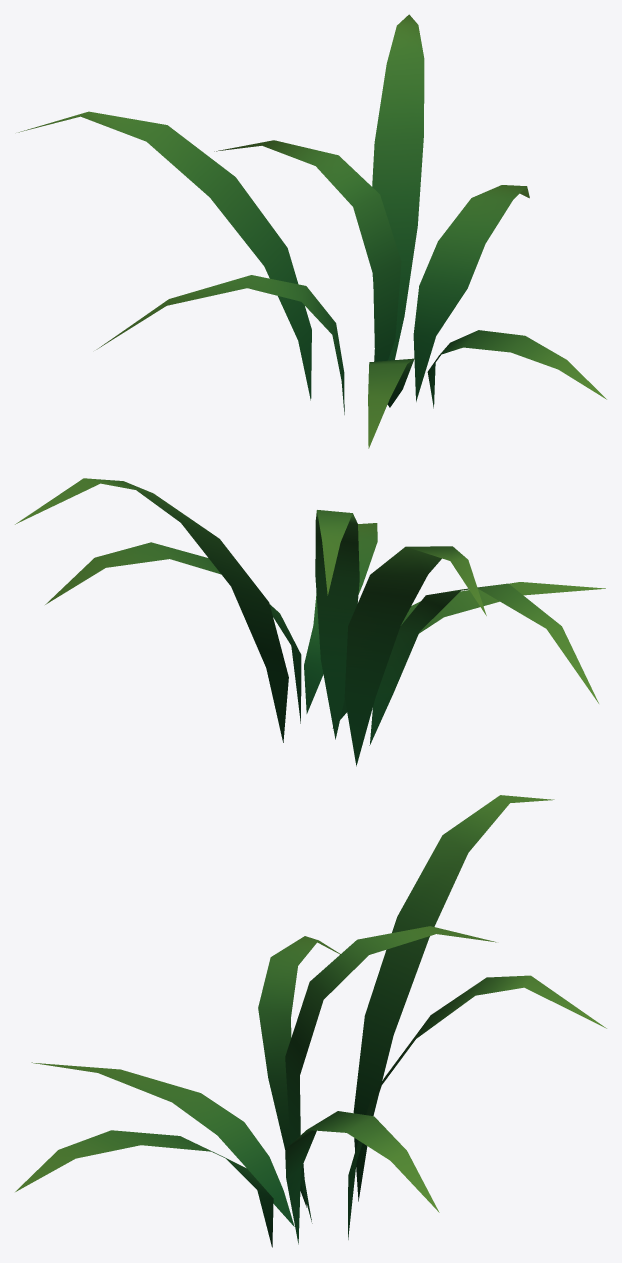
File: plant_A_001.FBX
The picture shows the model from 3 angles, top to bottom: view 1: azimuth 30°, elevation 25°; view 2: azimuth 150°, elevation 25°; view 3: azimuth 270°, elevation 25°; orthographic projection. The views are drawn at different scales.
Visible parts, largest first — view 1: plant_A_001; view 2: plant_A_001; view 3: plant_A_001.
Boxes of the visible parts, x1,y1,x2,y2 form: plant_A_001: [18, 14, 606, 448]; plant_A_001: [15, 478, 605, 766]; plant_A_001: [15, 795, 606, 1247].
Size of the model in its own units: 25.87 by 14.53 by 24.75.
